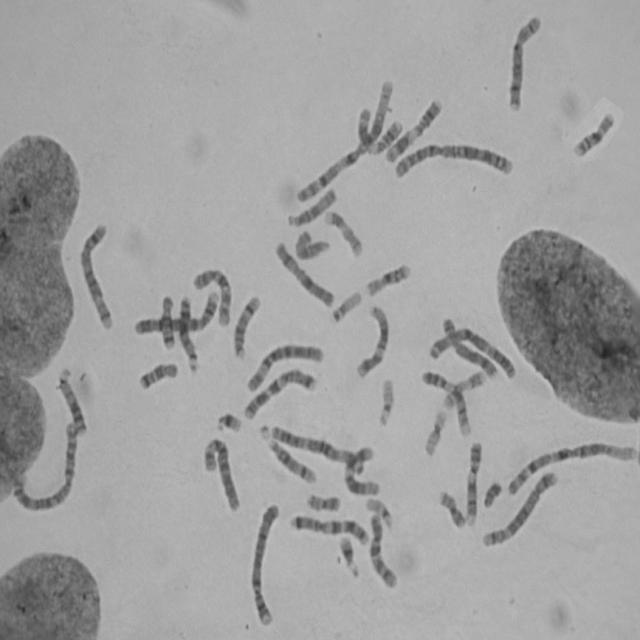A1: (290, 72, 396, 204), (501, 436, 639, 498)
A2: (7, 416, 79, 514), (388, 134, 517, 180)
A3: (265, 418, 369, 475), (428, 318, 518, 380)
B4: (130, 284, 222, 336), (246, 496, 282, 628)
B5: (478, 464, 560, 550), (75, 216, 116, 331)
C10: (188, 260, 234, 328), (364, 506, 400, 590)
C11: (379, 92, 444, 165), (352, 102, 406, 159)
C12: (351, 300, 391, 380), (339, 439, 382, 497)
C6: (243, 336, 325, 394), (198, 431, 242, 513)
C7: (238, 361, 318, 420), (285, 508, 371, 547)
C8: (503, 8, 544, 113), (438, 313, 500, 381)
C9: (417, 363, 472, 438), (461, 435, 484, 527)
D13: (53, 362, 88, 437), (174, 289, 200, 375)
D14: (264, 433, 318, 485), (228, 288, 262, 361)
D15: (284, 181, 338, 228), (291, 224, 331, 262)
E16: (568, 104, 617, 159), (361, 257, 412, 298)
E17: (320, 203, 364, 258), (439, 364, 487, 411)
E18: (134, 355, 179, 392), (157, 289, 176, 350)
F19: (420, 403, 449, 457), (361, 490, 396, 532)
F20: (433, 484, 467, 530), (302, 487, 342, 513)
G21: (334, 529, 361, 580), (212, 406, 243, 434)
G22: (327, 284, 363, 324), (374, 372, 396, 428)
X: (269, 235, 336, 309)
Y: (478, 474, 504, 509)
